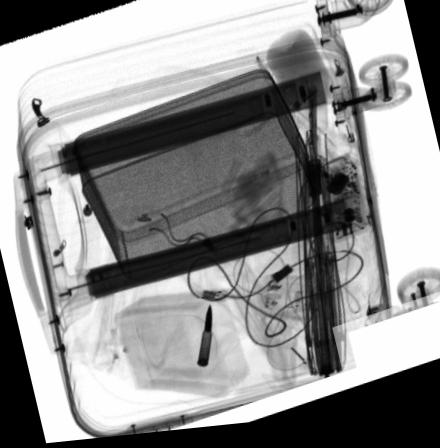Bullet: (196, 308, 212, 372)
